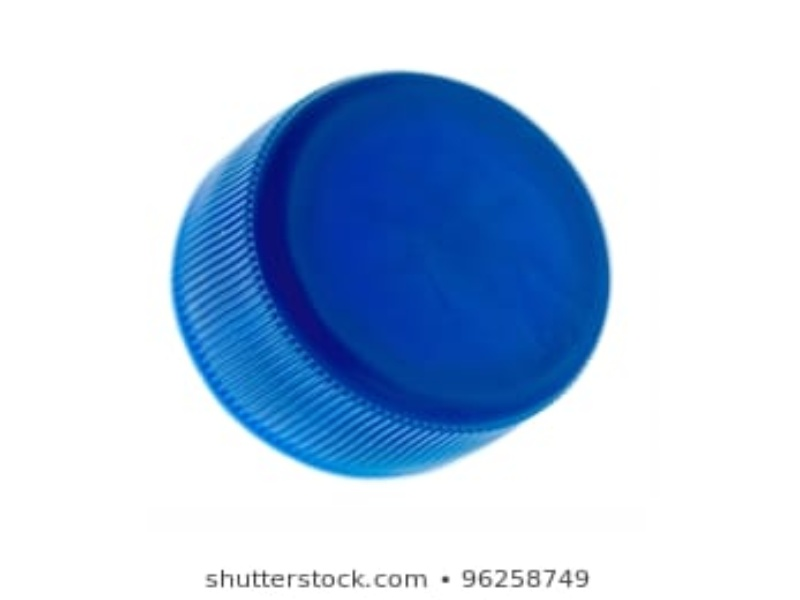bottle-cap: (169, 65, 611, 478)
